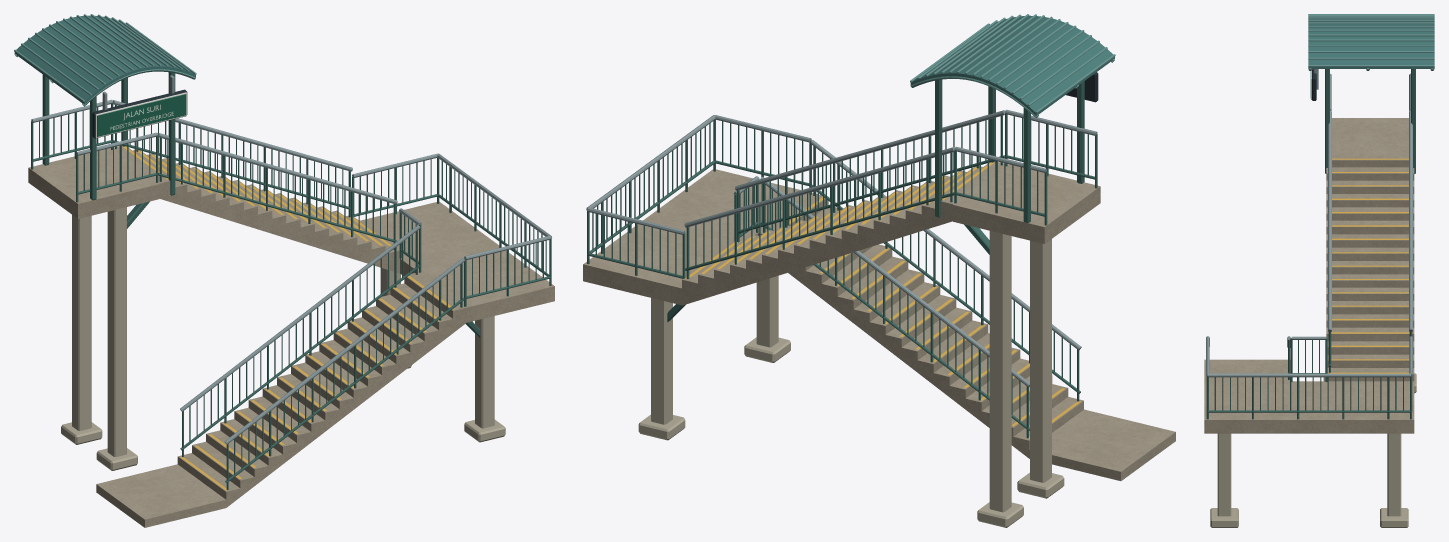
The picture shows the model from 3 angles, left to right: view 1: azimuth 30°, elevation 25°; view 2: azimuth 150°, elevation 25°; view 3: azimuth 270°, elevation 25°; orthographic projection. The views are drawn at different scales.
Visible parts, largest first — view 1: Concrete Stair Flights, Pier Legs, Sloped Guard Pickets, Switchback Landing, Landing Guard Pickets, Landing Canopy, Bridge Landing, Pedestrian Landing, Sloped Handrails, Step Nosing Markers, Landing Canopy Seams, Landing Guard Frames (+4 smaller); view 2: Concrete Stair Flights, Pier Legs, Switchback Landing, Sloped Guard Pickets, Landing Guard Pickets, Landing Canopy, Bridge Landing, Pedestrian Landing, Sloped Handrails, Landing Canopy Seams, Landing Guard Frames, Step Nosing Markers (+3 smaller); view 3: Concrete Stair Flights, Switchback Landing, Landing Canopy, Landing Canopy Seams, Bridge Landing, Pier Legs, Step Nosing Markers, Landing Guard Pickets, Landing Guard Frames, Sloped Handrails, Pedestrian Landing, Pier Footings (+1 smaller).
Part boxes in pixels (x1,y1,x2,y2): Concrete Stair Flights: [110, 146, 467, 507]; Pier Legs: [72, 207, 494, 456]; Sloped Guard Pickets: [115, 105, 462, 489]; Switchback Landing: [360, 202, 554, 322]; Landing Guard Pickets: [31, 103, 551, 306]; Landing Canopy: [14, 15, 195, 104]; Bridge Landing: [28, 148, 159, 218]; Pedestrian Landing: [96, 464, 226, 527]; Sloped Handrails: [113, 100, 465, 444]; Step Nosing Markers: [123, 146, 454, 490]; Landing Canopy Seams: [14, 14, 196, 101]; Landing Guard Frames: [31, 99, 551, 298]; Concrete Stair Flights: [682, 162, 1083, 458]; Pier Legs: [651, 231, 1051, 512]; Switchback Landing: [583, 169, 809, 305]; Sloped Guard Pickets: [686, 115, 1079, 438]; Landing Guard Pickets: [587, 113, 1097, 278]; Landing Canopy: [910, 15, 1114, 115]; Bridge Landing: [953, 164, 1100, 243]; Pedestrian Landing: [1029, 409, 1175, 480]; Sloped Handrails: [684, 110, 1081, 387]; Landing Canopy Seams: [910, 14, 1115, 113]; Landing Guard Frames: [586, 109, 1097, 278]; Step Nosing Markers: [685, 162, 1080, 438]; Concrete Stair Flights: [1204, 154, 1414, 381]; Switchback Landing: [1204, 381, 1414, 433]; Landing Canopy: [1308, 19, 1434, 68]; Landing Canopy Seams: [1308, 14, 1434, 66]; Bridge Landing: [1332, 118, 1408, 153]; Pier Legs: [1217, 433, 1401, 516]; Step Nosing Markers: [1329, 158, 1409, 373]; Landing Guard Pickets: [1206, 338, 1411, 419]; Landing Guard Frames: [1206, 73, 1412, 412]; Sloped Handrails: [1209, 110, 1412, 347]; Pedestrian Landing: [1204, 359, 1290, 374]; Pier Footings: [1210, 373, 1416, 527].
Bounding box in the file's own units: 9.06 × 8.48 × 4.81.
10 materials, 1 textured.
